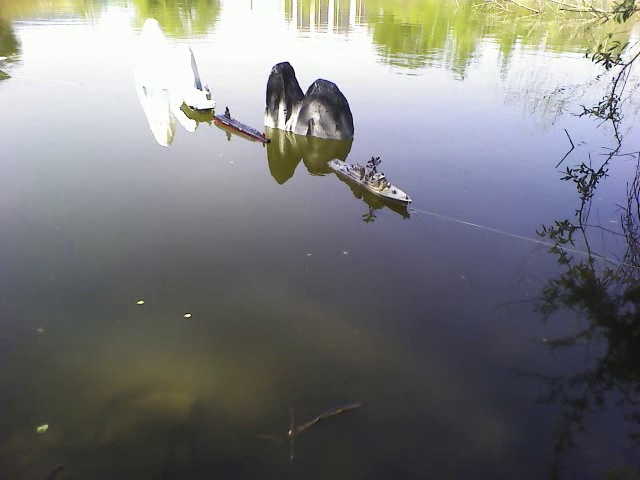rock: (263, 61, 360, 141)
submarine: (213, 108, 273, 148)
warship: (330, 152, 415, 209)
